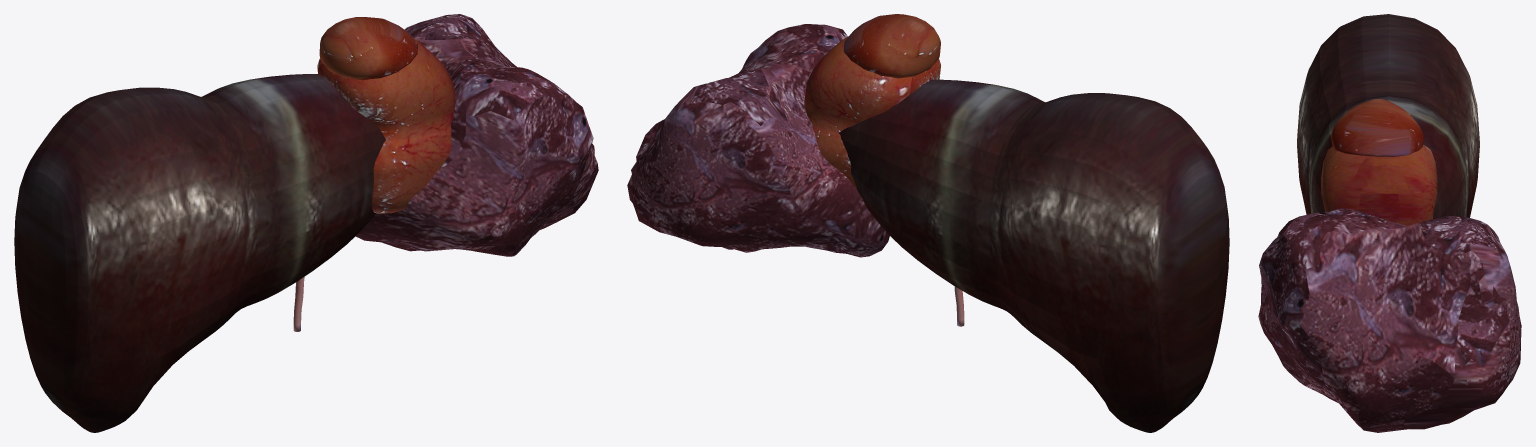
File: AuthenticKidney.fbx
The picture shows the model from 3 angles, left to right: view 1: azimuth 30°, elevation 25°; view 2: azimuth 150°, elevation 25°; view 3: azimuth 270°, elevation 25°; orthographic projection. The views are drawn at different scales.
Parts seen in each view (by area): view 1: Cube.001, rock, Cube; view 2: Cube.001, rock, Cube; view 3: rock, Cube.001, Cube.
Part boxes in pixels (left/top/right/bottom): Cube.001: left=14, top=74, right=385, bottom=432; rock: left=355, top=14, right=598, bottom=256; Cube: left=293, top=17, right=455, bottom=331; Cube.001: left=839, top=79, right=1229, bottom=432; rock: left=627, top=24, right=889, bottom=257; Cube: left=804, top=14, right=964, bottom=326; rock: left=1258, top=208, right=1521, bottom=432; Cube.001: left=1297, top=14, right=1479, bottom=218; Cube: left=1321, top=99, right=1437, bottom=225.
Bounding box in the file's own units: 0.00183 × 0.00112 × 0.000794.
